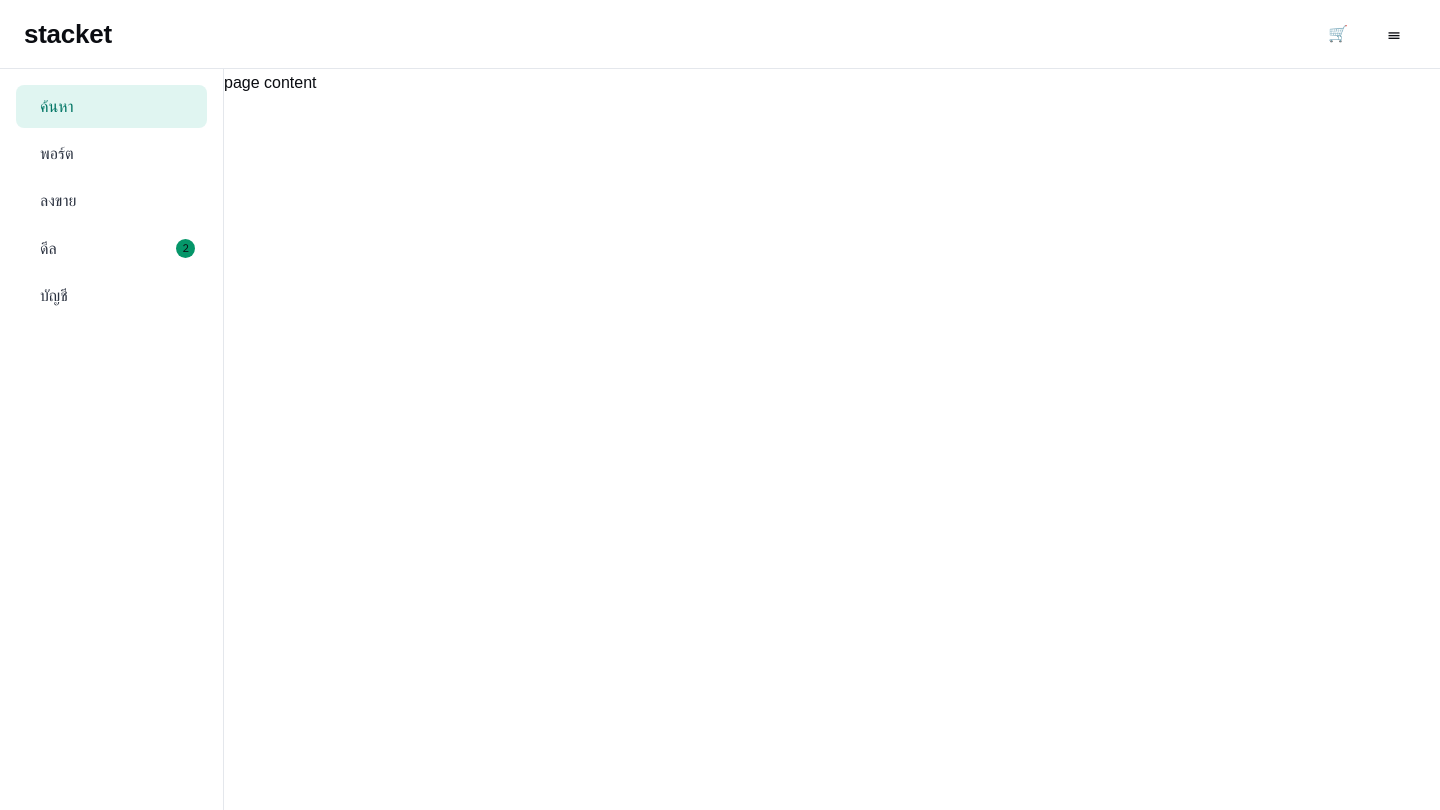
it: AppShell › closes the drawer on Escape and returns focus to the hamburger button
Click the button named "เปิดเมนู". click: (1394,34)
box: [1372,12,1416,56]
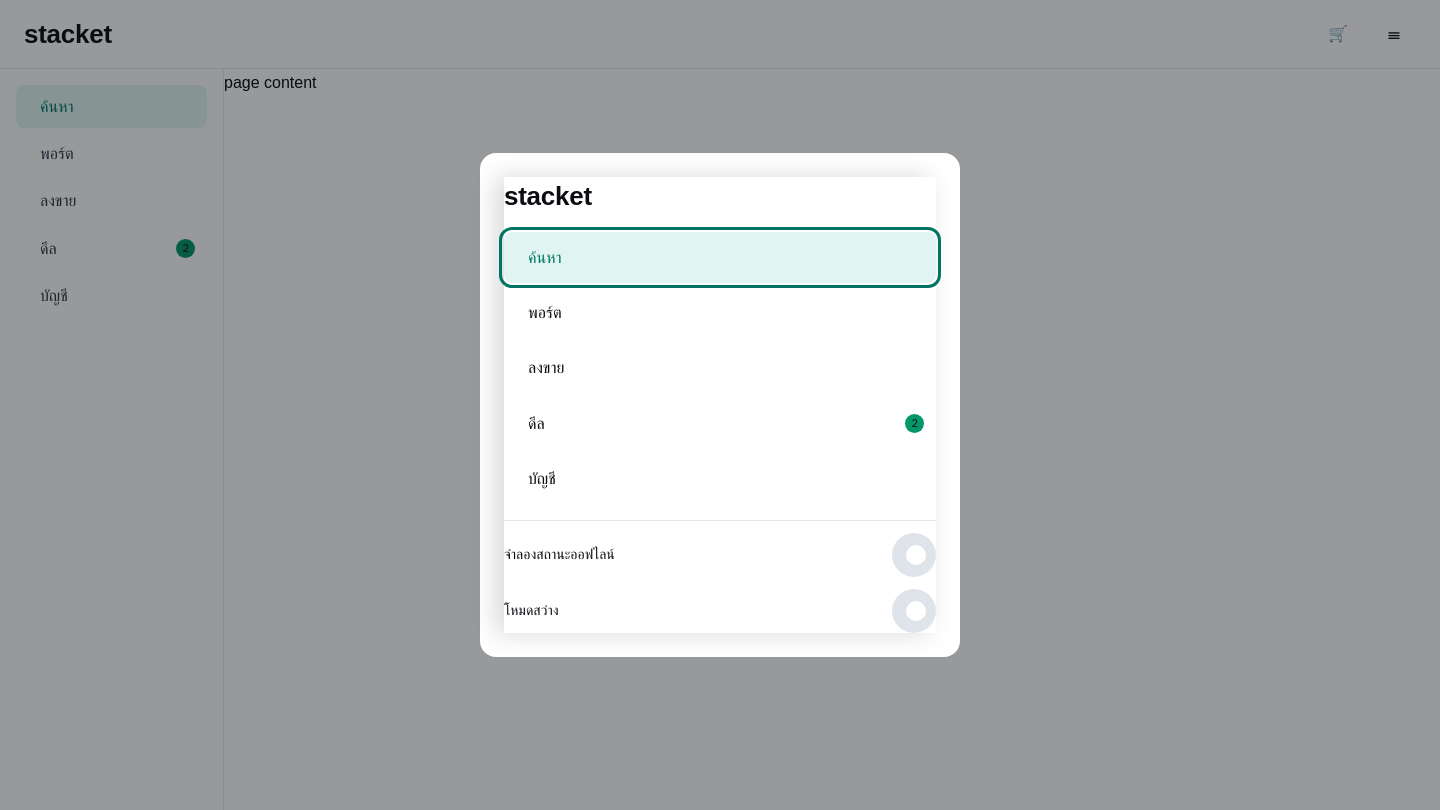
Press Escape
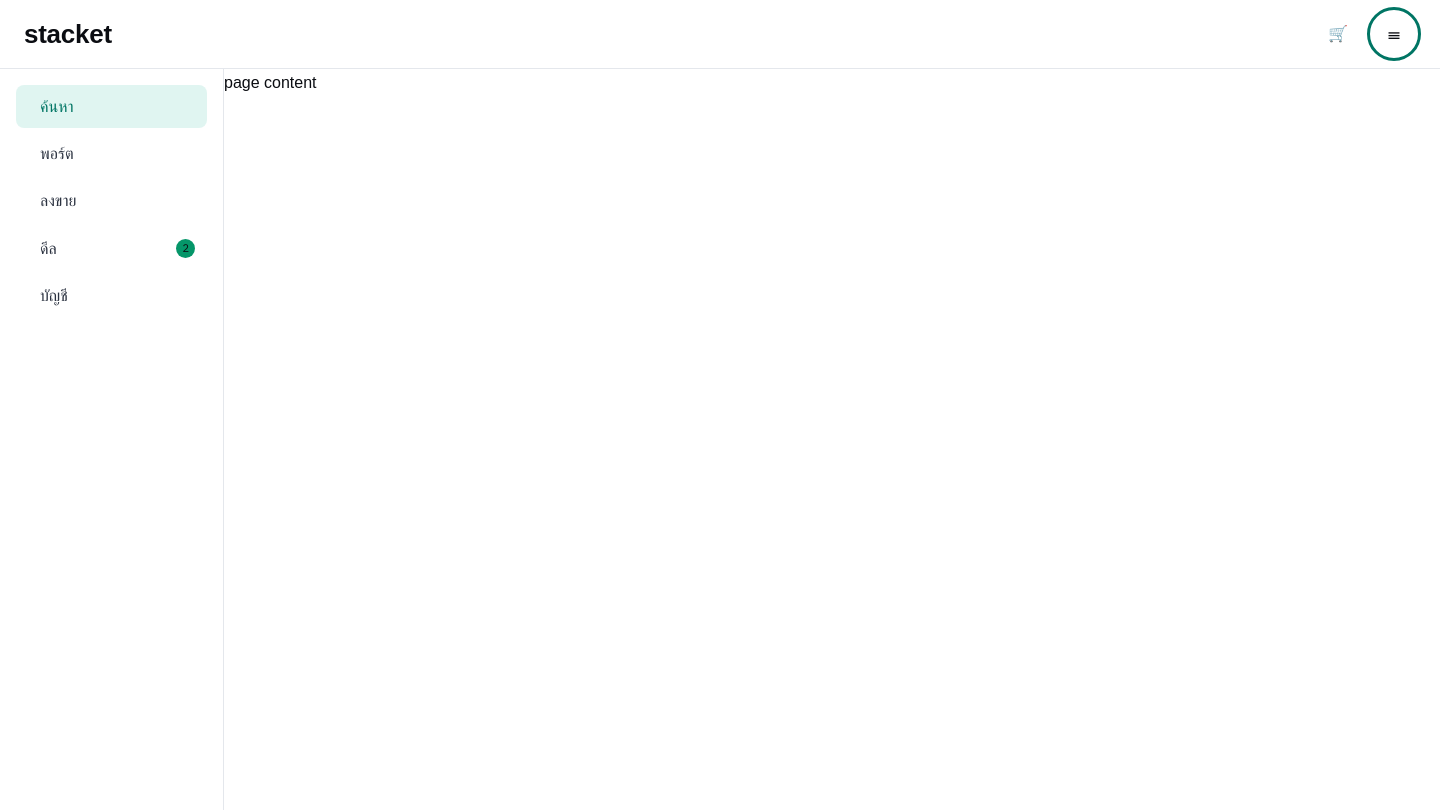
Now the dialog is gone
